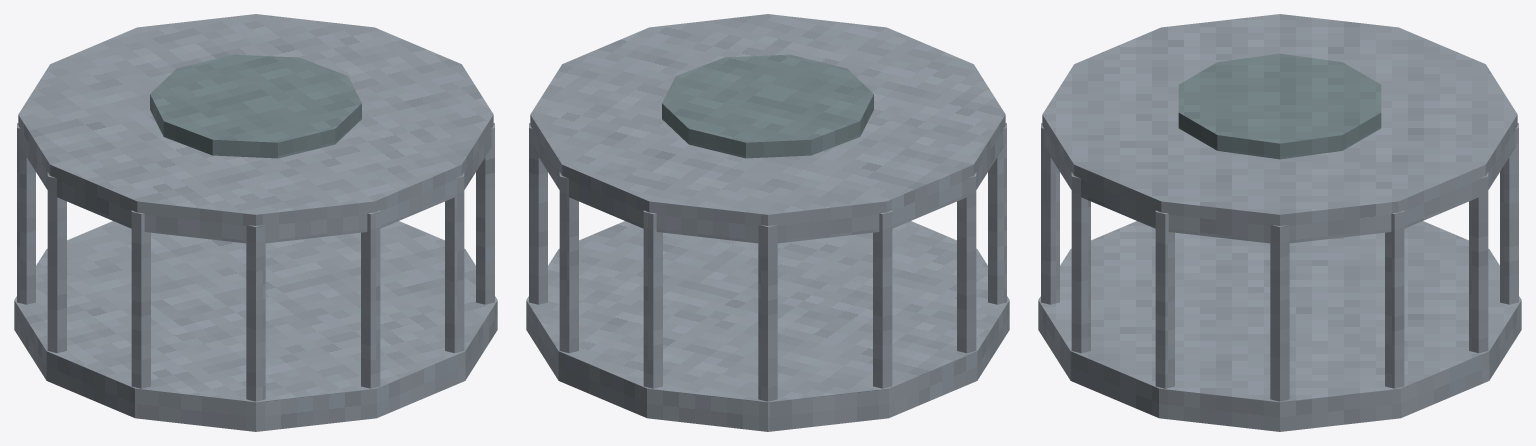
File: level_blockout_wharf_crab_pot.glb
3 renders of one model, left to right at view 1: azimuth 30°, elevation 25°; view 2: azimuth 150°, elevation 25°; view 3: azimuth 270°, elevation 25°, orthographic.
Parts seen in each view (by area): view 1: level_blockout_wharf_crab_pot; view 2: level_blockout_wharf_crab_pot; view 3: level_blockout_wharf_crab_pot.
Part boxes in pixels (x1,y1,x2,y2): level_blockout_wharf_crab_pot: (14, 14, 497, 431); level_blockout_wharf_crab_pot: (526, 14, 1009, 431); level_blockout_wharf_crab_pot: (1038, 14, 1521, 431).
Bounding box in the file's own units: 1.18 × 0.6225 × 1.18.
Materials: 2 (2 with a texture image).
